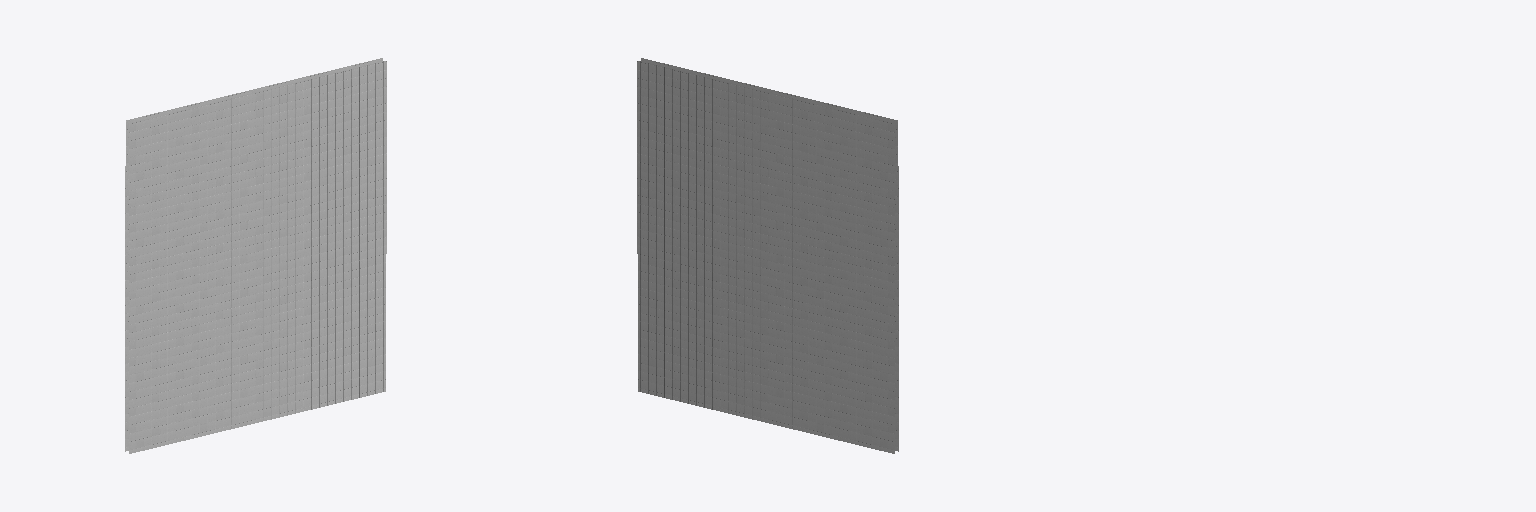
3 views of the same model, side by side, from view 1: azimuth 30°, elevation 25°; view 2: azimuth 150°, elevation 25°; view 3: azimuth 270°, elevation 25° (orthographic).
Parts seen in each view (by area): view 1: floor_6; view 2: floor_6; view 3: none.
Boxes of the visible parts, x1=… form: floor_6: x1=125, y1=58, x2=386, y2=453; floor_6: x1=637, y1=58, x2=898, y2=453.
Bounding box in the file's own units: 4.03 × 4.95 × 0.1.
1 materials, 1 textured.